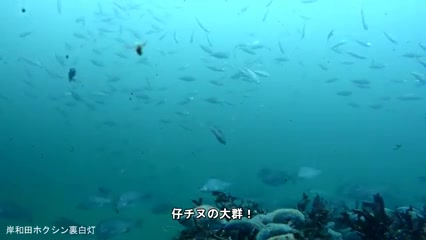smallfish: (206, 121, 231, 147)
